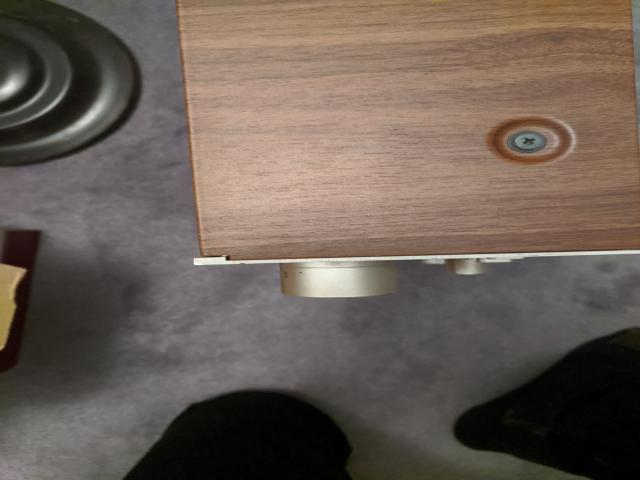CRS: (513, 134, 543, 152)
